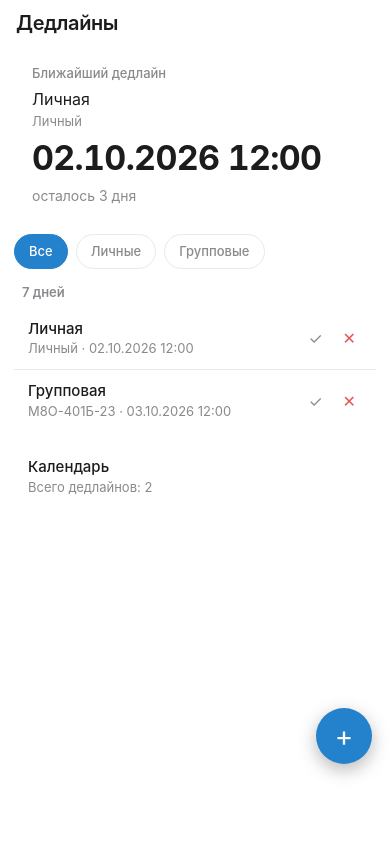
Scenario: DeadlinesScreen: сегменты и фильтры › чип «Личные» скрывает групповые, «Групповые» — личные
This screenshot has width=390, height=844.
Expected: the element with test id "cell-1" is shown, [14,308,376,369]
Expected: the element with test id "cell-2" is shown, [14,369,376,432]
Click the button "Личные": (116, 251) [76,234,156,269]
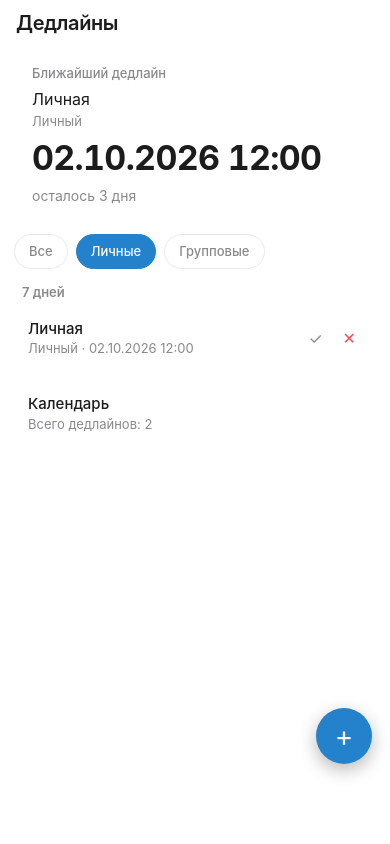
Expected: the element with test id "cell-1" is shown, [14,308,376,369]
Expected: the element with test id "cell-2" is gone
Click the button "Групповые": (214, 251) [164,234,264,269]
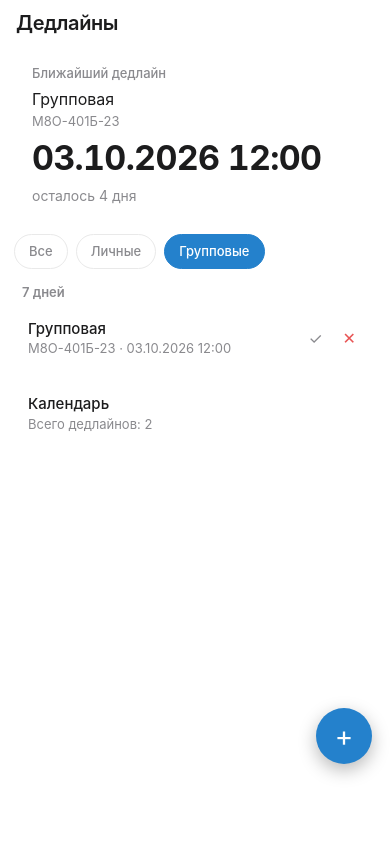
Expected: the element with test id "cell-1" is gone
Expected: the element with test id "cell-2" is shown, [14,308,376,369]
